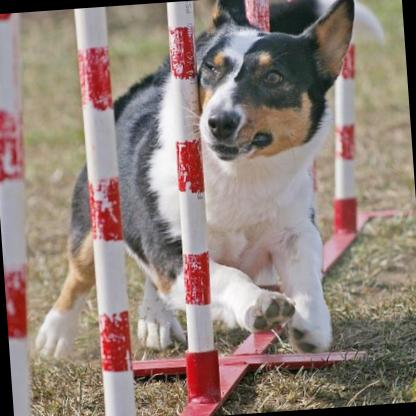Cardigan: (12, 0, 407, 373)
